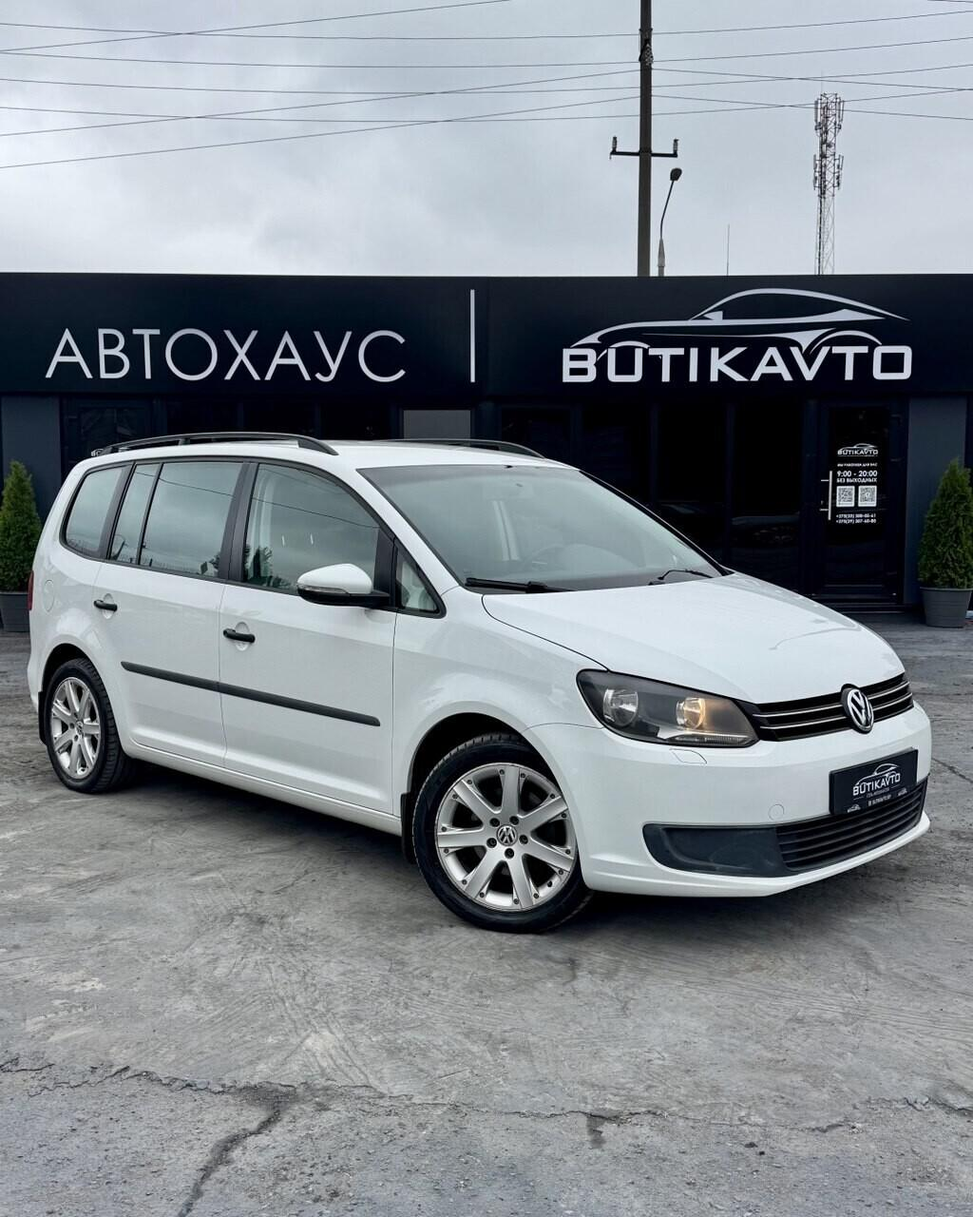Touran_2010-2015: (22, 431, 947, 924)
